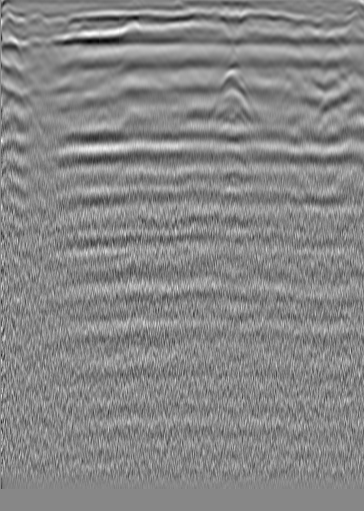가스: (217, 144, 250, 174)
상수: (295, 25, 315, 45)
오수: (26, 11, 46, 31)
우수: (167, 17, 187, 37)
